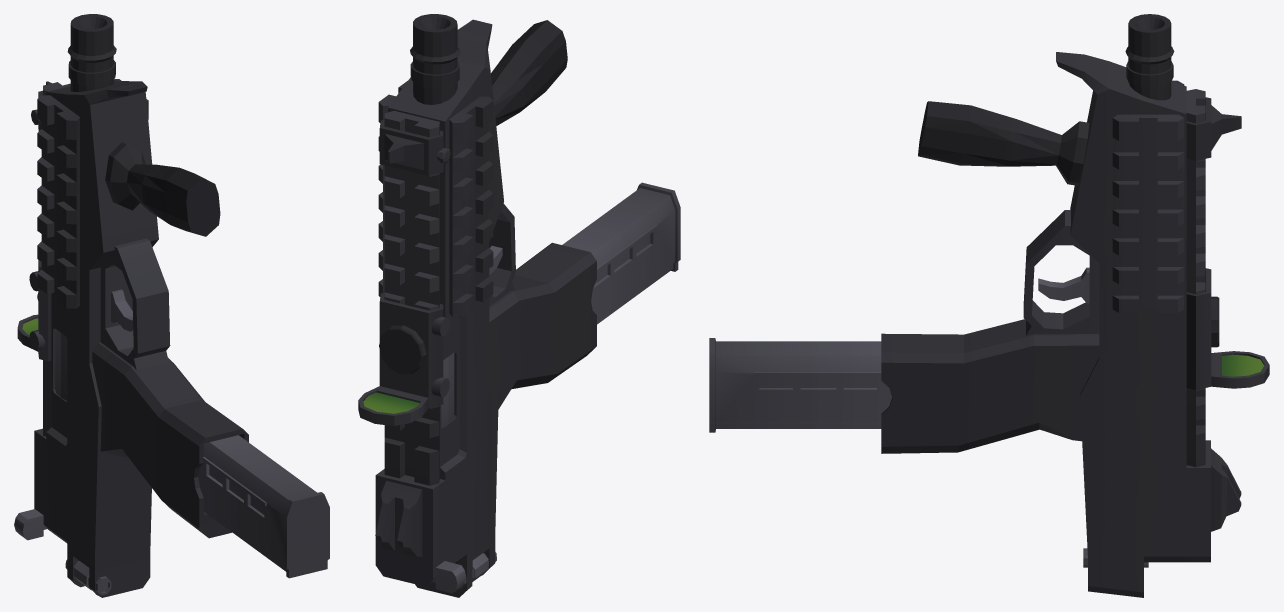
File: SMG.FBX
3 views of the same model, side by side, from view 1: azimuth 30°, elevation 25°; view 2: azimuth 150°, elevation 25°; view 3: azimuth 270°, elevation 25° (orthographic). The views are drawn at different scales.
Visible parts, largest first — view 1: SMG_Bas, SMG_Mag, SMG_Barrel, SMG_Lewer, SMG_HSOpen, SMG_Trigger, SMG_StockMount; view 2: SMG_Bas, SMG_Mag, SMG_HSOpen, SMG_Barrel, SMG Sight, SMG_Lewer, sng_hsout; view 3: SMG_Bas, SMG_Mag, SMG_HSOpen, SMG_Barrel, SMG Sight, SMG_Trigger, sng_hsout.
Boxes of the visible parts, box(x1,y1,x2,y2) form: SMG_Bas: box(34, 79, 248, 597); SMG_Mag: box(198, 435, 329, 578); SMG_Barrel: box(67, 14, 116, 91); SMG_Lewer: box(14, 328, 67, 540); SMG_HSOpen: box(17, 260, 51, 361); SMG_Trigger: box(111, 289, 133, 331); SMG_StockMount: box(65, 559, 111, 595); SMG_Bas: box(375, 19, 596, 597); SMG_Mag: box(562, 182, 680, 324); SMG_HSOpen: box(358, 293, 449, 425); SMG_Barrel: box(410, 14, 460, 104); SMG Sight: box(379, 119, 450, 175); SMG_Lewer: box(431, 352, 466, 593); sng_hsout: box(363, 392, 419, 413); SMG_Bas: box(881, 52, 1241, 597); SMG_Mag: box(709, 338, 891, 432); SMG_HSOpen: box(1186, 268, 1269, 389); SMG_Barrel: box(1125, 14, 1174, 100); SMG Sight: box(1186, 97, 1241, 160); SMG_Trigger: box(1038, 267, 1089, 303); sng_hsout: box(1222, 354, 1264, 376).
Bounding box in the file's own units: 0.1909 × 1.11 × 1.
